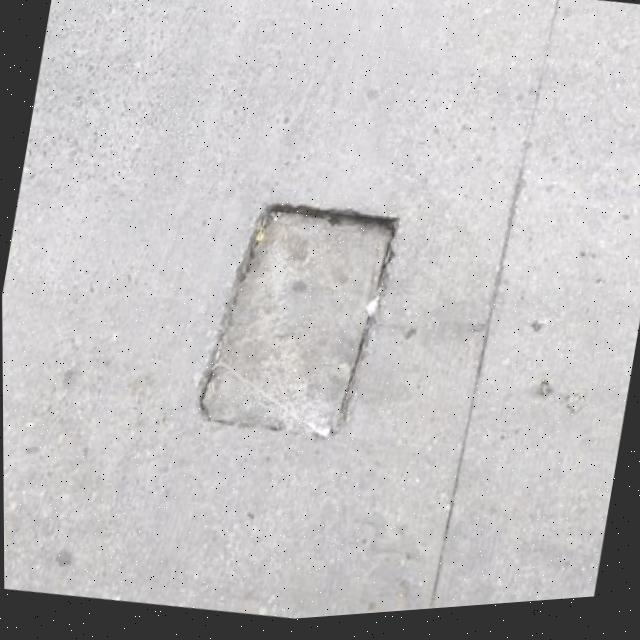manhole: (184, 180, 407, 466)
